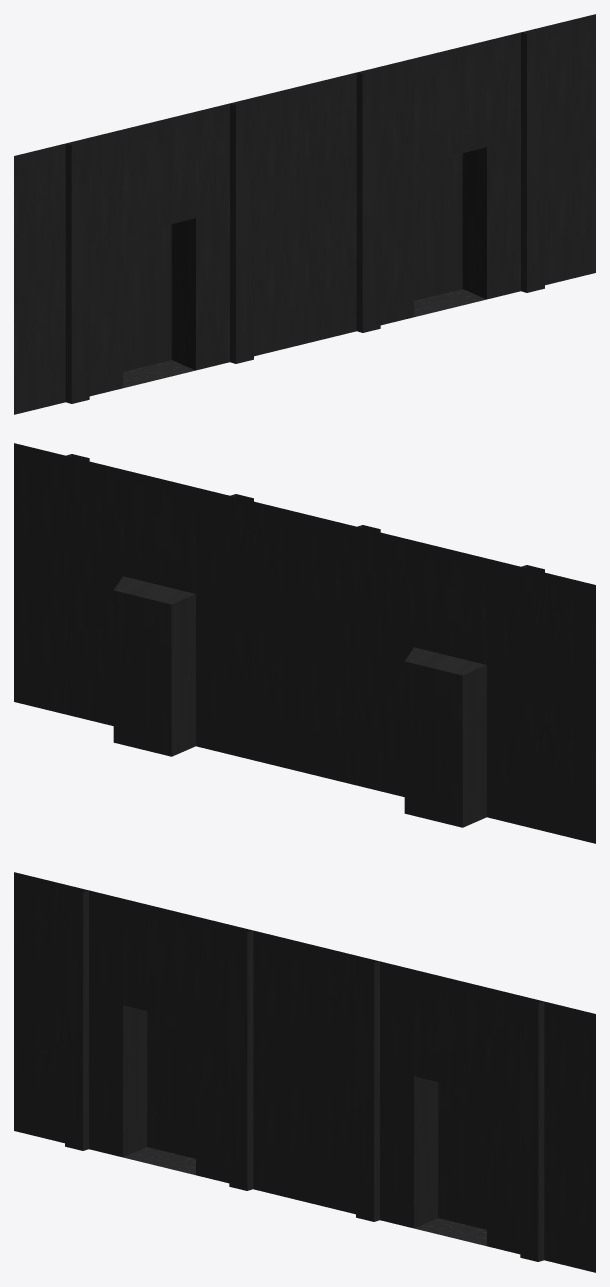
File: SW_ENV_RailTunnelWall_B_02_10m.fbx
The picture shows the model from 3 angles, top to bottom: view 1: azimuth 30°, elevation 25°; view 2: azimuth 150°, elevation 25°; view 3: azimuth 330°, elevation 25°; orthographic projection.
Visible parts, largest first — view 1: SW_ENV_RailTunnelWall_B_02_10m; view 2: SW_ENV_RailTunnelWall_B_02_10m; view 3: SW_ENV_RailTunnelWall_B_02_10m.
Part boxes in pixels (<box>): SW_ENV_RailTunnelWall_B_02_10m: <box>14,14,595,414</box>; SW_ENV_RailTunnelWall_B_02_10m: <box>14,443,595,843</box>; SW_ENV_RailTunnelWall_B_02_10m: <box>14,872,595,1272</box>.
Bounding box in the file's own units: 1000 × 425 × 60.
